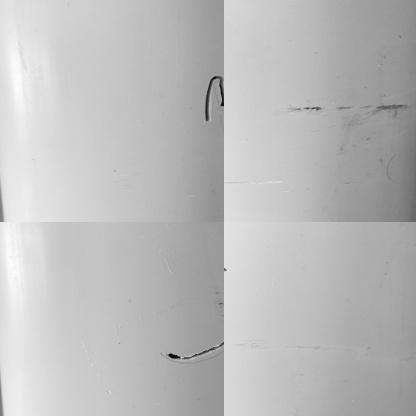fengxi: (199, 70, 229, 125), (161, 344, 225, 366)
